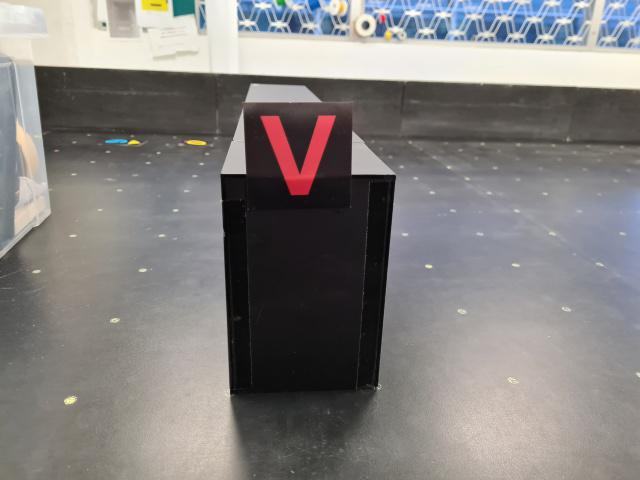v: (242, 101, 353, 212)
